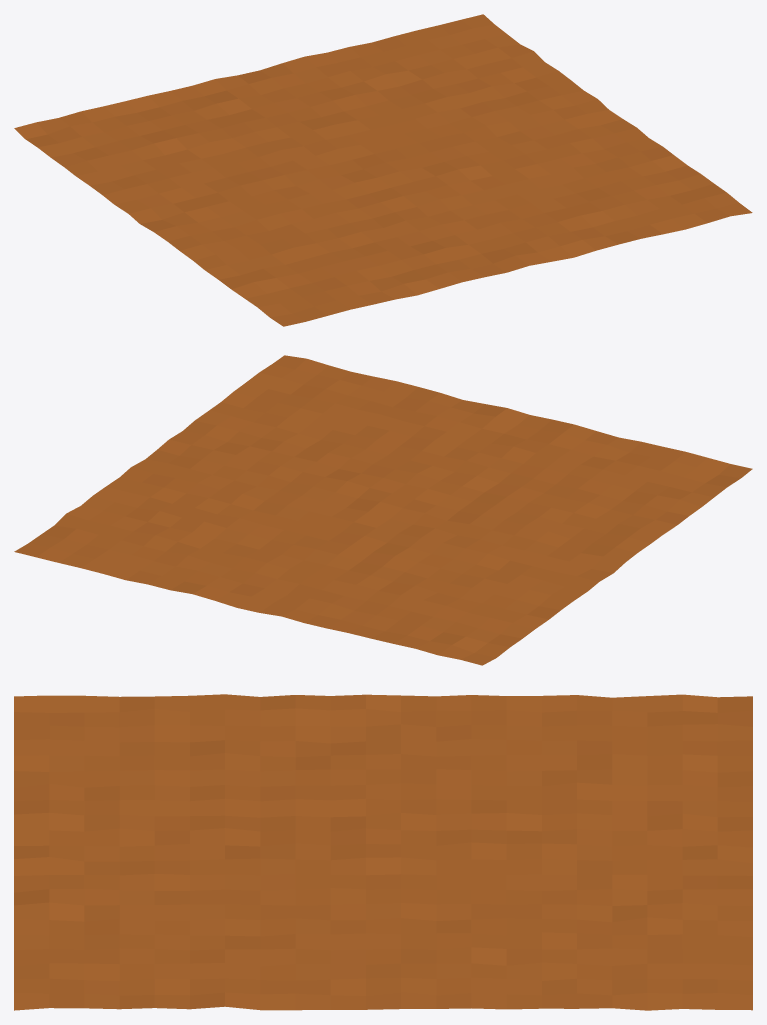
The model's file is Floor.FBX.
3 renders of one model, top to bottom at view 1: azimuth 30°, elevation 25°; view 2: azimuth 150°, elevation 25°; view 3: azimuth 270°, elevation 25°, orthographic. The views are drawn at different scales.
Visible parts, largest first — view 1: Object002; view 2: Object002; view 3: Object002.
Boxes of the visible parts, x1,y1,x2,y2 form: Object002: [14, 14, 752, 326]; Object002: [14, 355, 752, 665]; Object002: [14, 694, 752, 1010].
Bounding box in the file's own units: 87416 × 672 × 86639.
